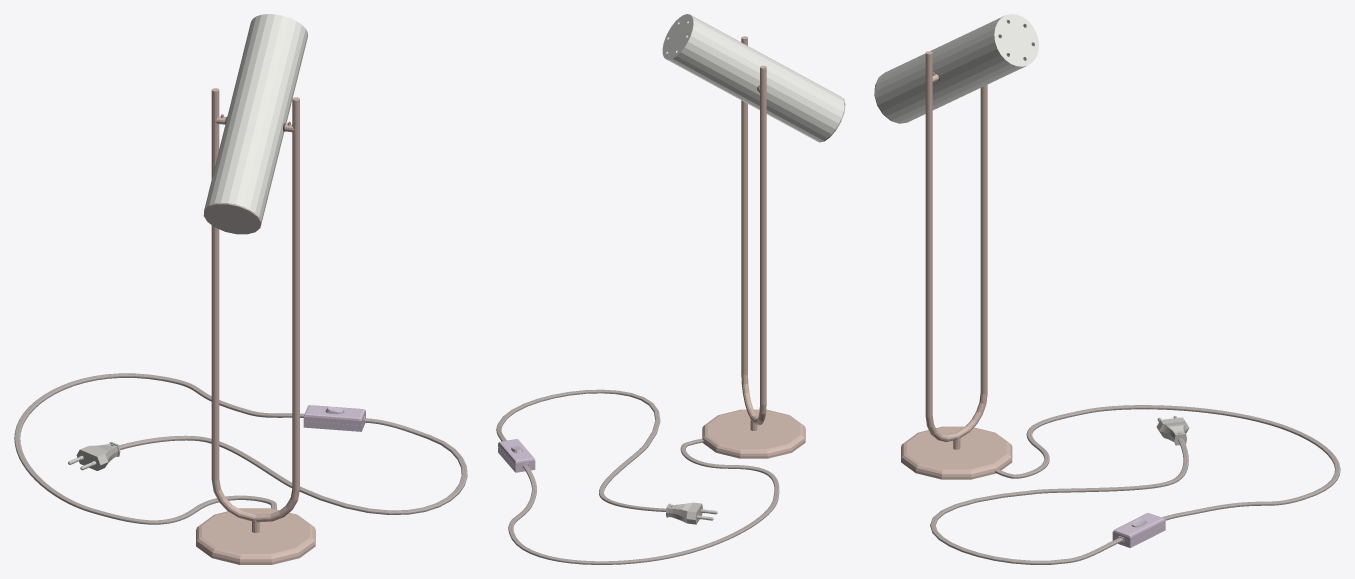
File: t11022_white.glb
3 views of the same model, side by side, from view 1: azimuth 30°, elevation 25°; view 2: azimuth 150°, elevation 25°; view 3: azimuth 270°, elevation 25° (orthographic). The views are drawn at different scales.
Visible parts, largest first — view 1: T111022-1 Black; view 2: T111022-1 Black; view 3: T111022-1 Black.
Part boxes in pixels (x1,y1,x2,y2): T111022-1 Black: (14, 14, 467, 564); T111022-1 Black: (496, 14, 845, 564); T111022-1 Black: (874, 14, 1340, 564).
Bounding box in the file's own units: 0.2041 × 0.278 × 0.2546.
